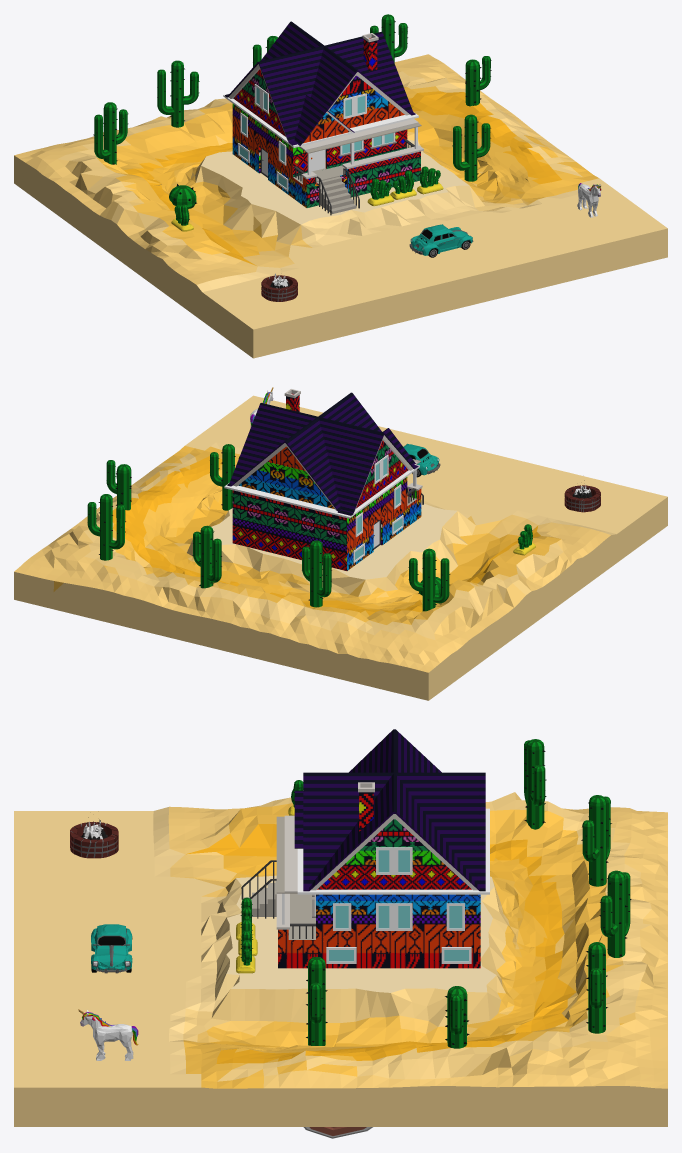
3 views of the same model, one above another, from view 1: azimuth 30°, elevation 25°; view 2: azimuth 150°, elevation 25°; view 3: azimuth 270°, elevation 25° (orthographic). The views are drawn at different scales.
Visible parts, largest first — view 1: Cube.001, Cube.966, Cylinder.037, Cylinder.044, Cylinder.045, VEHICLES_VOLKSWAGEN, Cylinder.038, OBJRANDOM_CAMPFIRE, Cylinder.042, ANIMAL_UNICORNIO, Cylinder.039, Cylinder.041 (+1 smaller); view 2: Cube.001, Cube.966, Cylinder.045, Cylinder.042, Cylinder.044, Cylinder.043, Cylinder.037, Cylinder.038, OBJRANDOM_CAMPFIRE, VEHICLES_VOLKSWAGEN; view 3: Cube.001, Cube.966, Cylinder.043, Cylinder.044, VEHICLES_VOLKSWAGEN, Cylinder.045, Cylinder.042, OBJRANDOM_CAMPFIRE, Cylinder.037, ANIMAL_UNICORNIO, Cylinder.038, Cylinder.041.
Boxes of the visible parts, x1,y1,x2,y2 form: Cube.001: [14, 54, 667, 358]; Cube.966: [223, 21, 423, 215]; Cylinder.037: [452, 114, 490, 181]; Cylinder.044: [157, 60, 199, 127]; Cylinder.045: [93, 102, 128, 164]; VEHICLES_VOLKSWAGEN: [409, 224, 473, 257]; Cylinder.038: [465, 56, 491, 106]; OBJRANDOM_CAMPFIRE: [261, 273, 297, 301]; Cylinder.042: [370, 14, 407, 62]; ANIMAL_UNICORNIO: [577, 183, 601, 217]; Cylinder.039: [367, 178, 394, 205]; Cylinder.041: [417, 166, 443, 194]; Cube.001: [14, 395, 667, 700]; Cube.966: [224, 389, 423, 570]; Cylinder.045: [408, 548, 450, 611]; Cylinder.042: [87, 494, 125, 560]; Cylinder.044: [302, 540, 331, 607]; Cylinder.043: [192, 525, 221, 588]; Cylinder.037: [210, 444, 239, 510]; Cylinder.038: [106, 460, 131, 510]; OBJRANDOM_CAMPFIRE: [564, 480, 600, 512]; VEHICLES_VOLKSWAGEN: [403, 443, 440, 477]; Cube.001: [14, 792, 667, 1126]; Cube.966: [241, 729, 489, 968]; Cylinder.043: [599, 870, 631, 957]; Cylinder.044: [581, 795, 611, 886]; VEHICLES_VOLKSWAGEN: [91, 924, 132, 973]; Cylinder.045: [524, 739, 546, 829]; Cylinder.042: [586, 942, 607, 1033]; OBJRANDOM_CAMPFIRE: [70, 817, 118, 858]; Cylinder.037: [306, 957, 327, 1045]; ANIMAL_UNICORNIO: [78, 1009, 138, 1060]; Cylinder.038: [445, 986, 469, 1048]; Cylinder.041: [236, 930, 255, 973].
Size of the model in its own units: 4002 by 2343 by 4001.
Materials: 47 (6 with a texture image).
